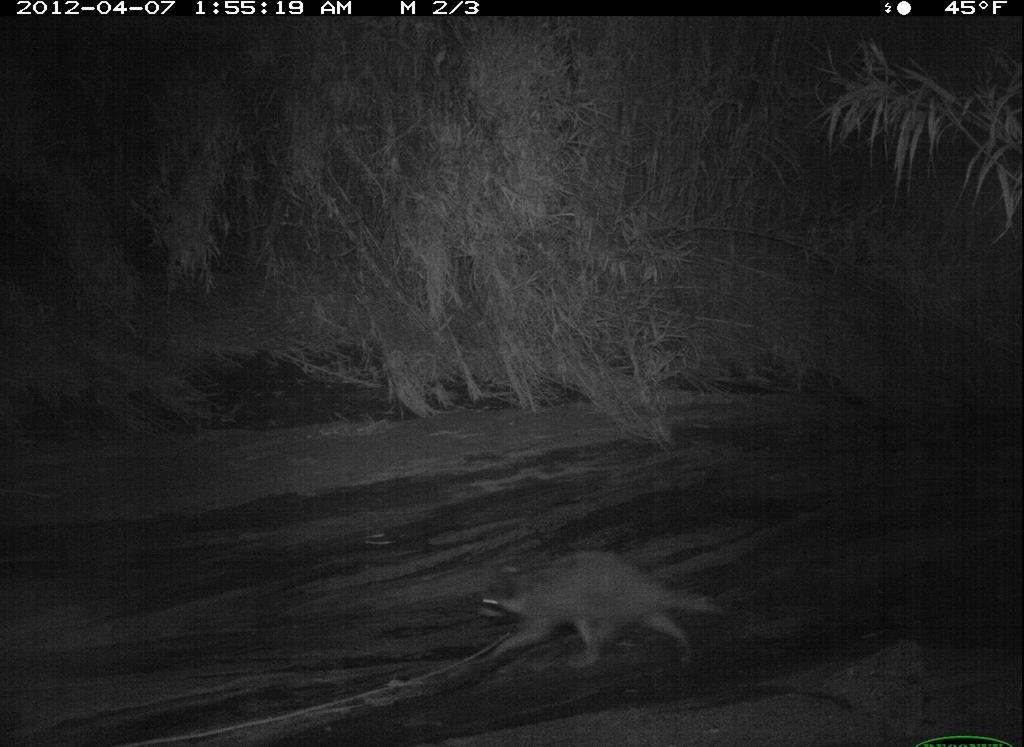raccoon: (460, 547, 745, 680)
